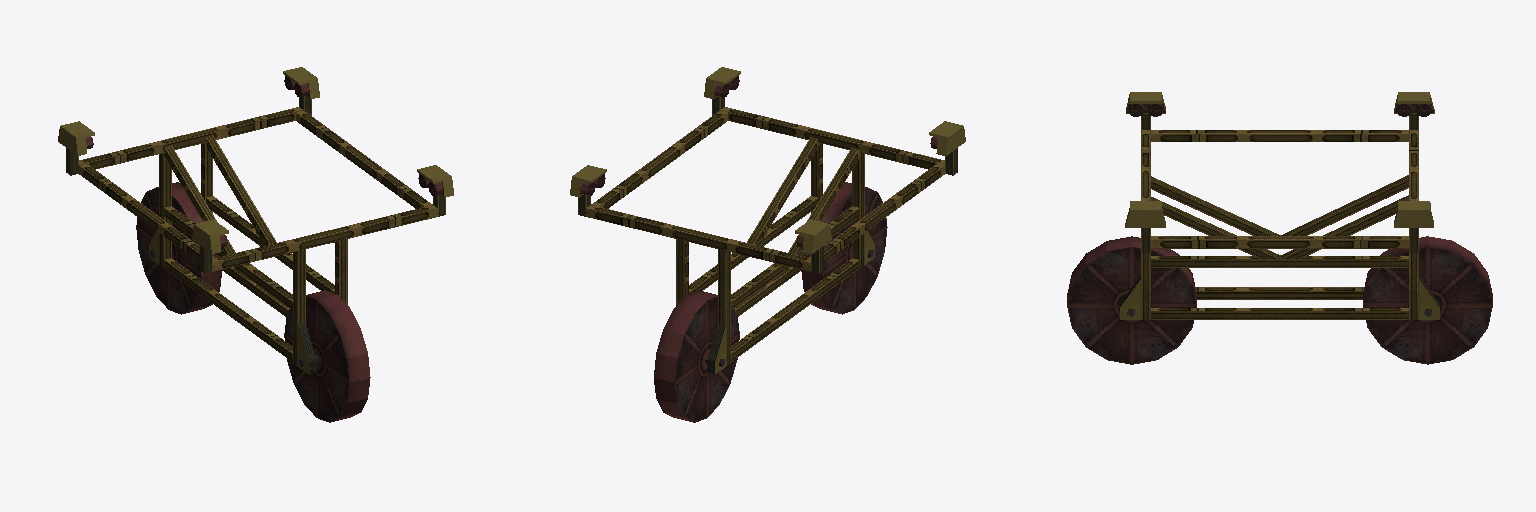
3 views of the same model, side by side, from view 1: azimuth 30°, elevation 25°; view 2: azimuth 150°, elevation 25°; view 3: azimuth 270°, elevation 25° (orthographic).
Visible parts, largest first — view 1: Gantry_Cube.228; view 2: Gantry_Cube.228; view 3: Gantry_Cube.228.
Part boxes in pixels (x1,y1,x2,y2): Gantry_Cube.228: (58, 67, 453, 422); Gantry_Cube.228: (570, 67, 965, 422); Gantry_Cube.228: (1067, 92, 1492, 364).
Bounding box in the file's own units: 1.47 × 1.22 × 2.24.
2 materials, 2 textured.